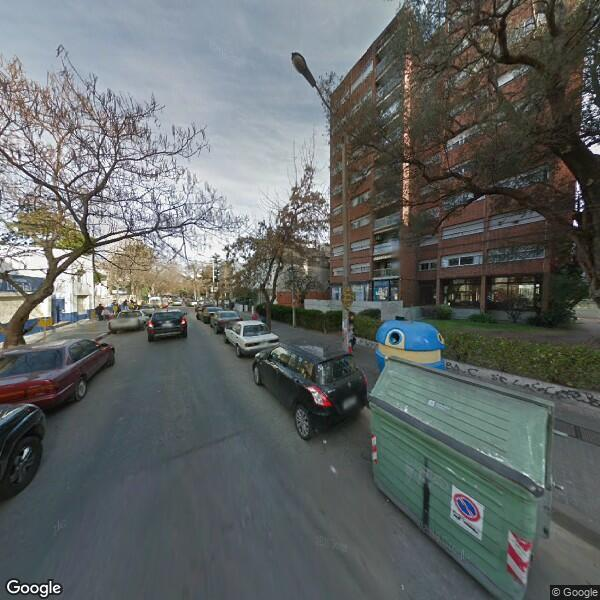Trash: (368, 359, 558, 599)
